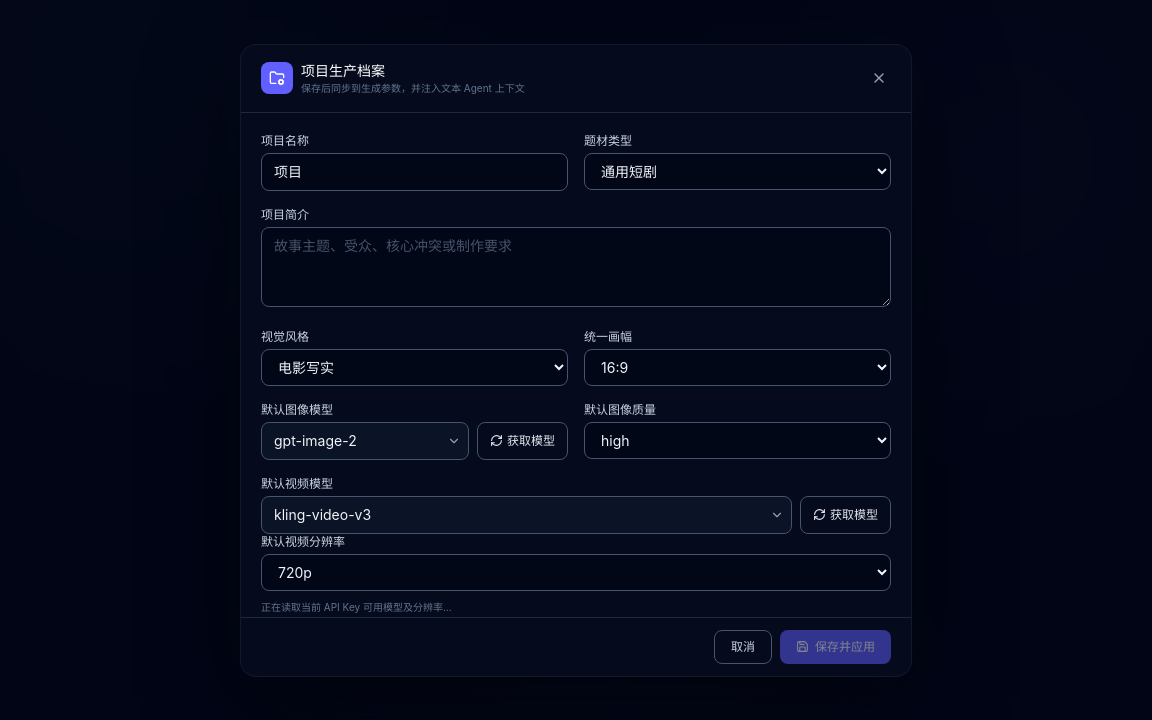
Test case: ProjectSettingsPage model catalog › fetches the video catalog and reports a failure without dropping the current model
The image size is (1152, 720).
Expected: the dropdown labelled "默认视频模型" holds "kling-video-v3", [261,496,792,534]
Click the button with aria-label "获取模型（默认视频模型）".
click(846, 514)  # box [800,496,891,534]
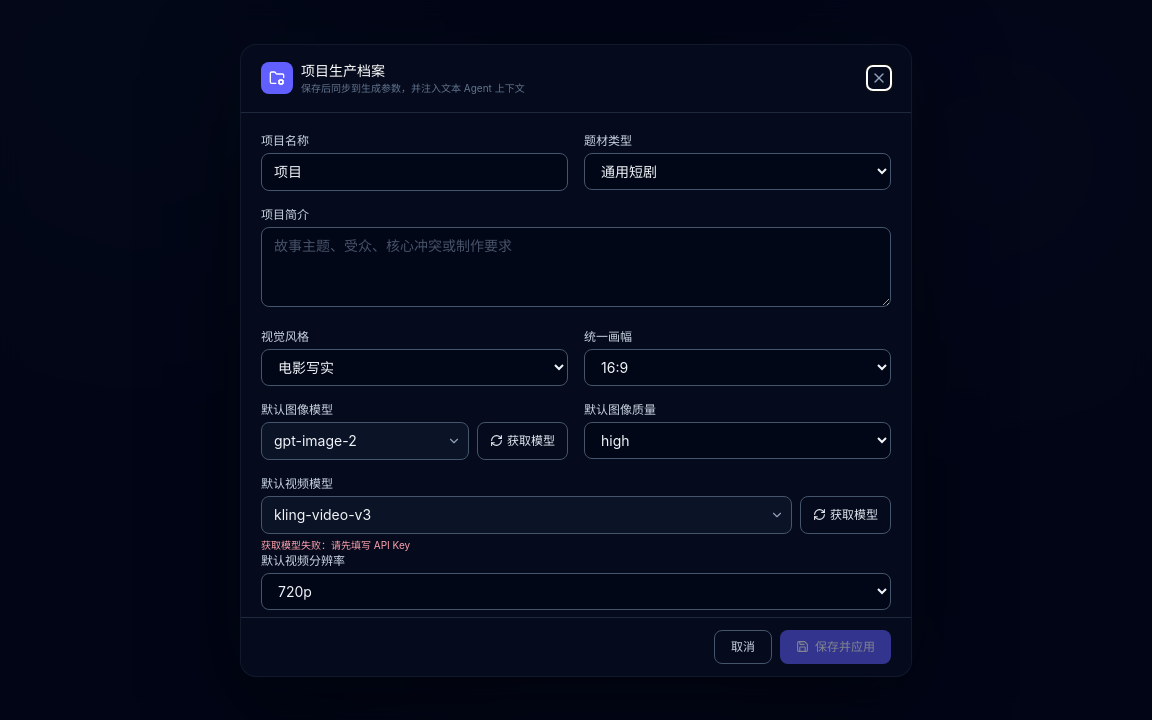
Expected: the dropdown labelled "默认视频模型" holds "kling-video-v3", [261,496,792,534]
Result: the text "获取模型失败：请先填写 API Key" is shown at [261,538,410,550]
